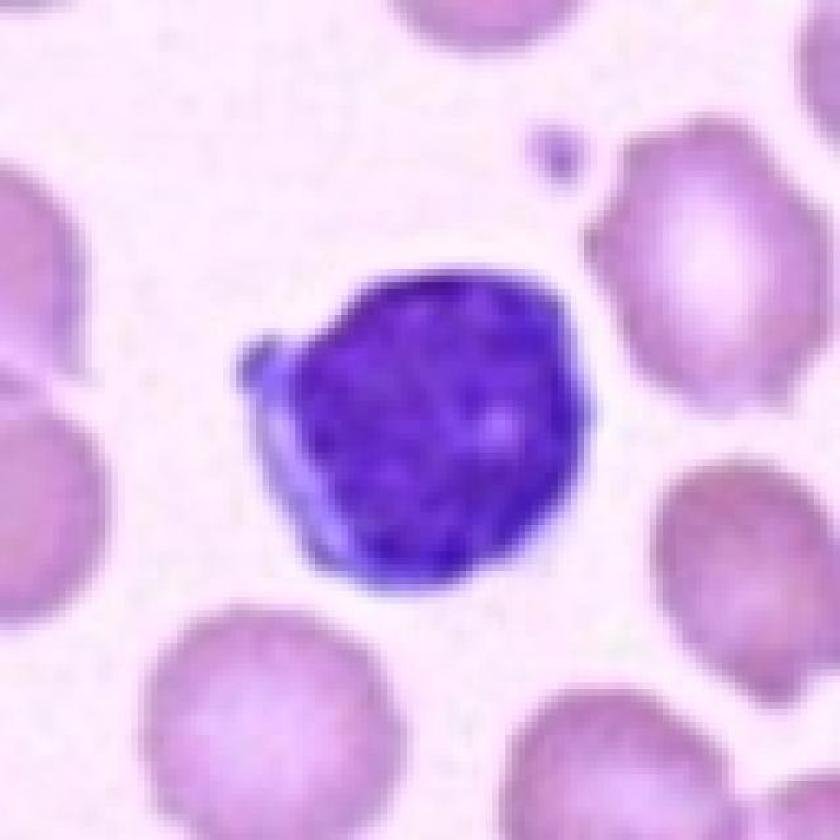lymphocyte: (223, 258, 615, 596)
